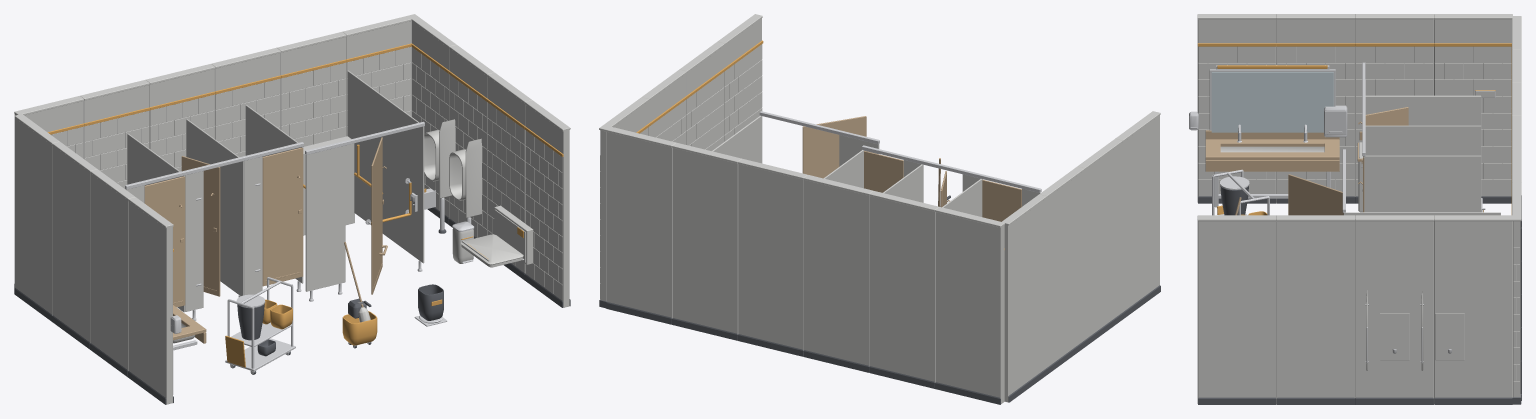
The model's file is office-lobby-and-facilities-washroom-86555e34__26334.glb.
3 renders of one model, left to right at view 1: azimuth 30°, elevation 25°; view 2: azimuth 150°, elevation 25°; view 3: azimuth 270°, elevation 25°, orthographic. The views are drawn at different scales.
Visible parts, largest first — view 1: 003-wc-cubicle-accessible/0, 018-washroom-wall-module/0, 014-washroom-wall-module/0, 001-wc-cubicle-module-open/0, 015-washroom-wall-module/0, 017-washroom-wall-module/0, 016-washroom-wall-module/0, 008-washroom-wall-module/0, 002-wc-cubicle-module/cubicle-door, 013-washroom-wall-module/0, 007-washroom-wall-module/0, 005-washroom-wall-module/0 (+24 smaller); view 2: 004-washroom-wall-module/0, 008-washroom-wall-module/0, 009-washroom-wall-module/0, 005-washroom-wall-module/0, 006-washroom-wall-module/0, 007-washroom-wall-module/0, 015-washroom-wall-module/0, 017-washroom-wall-module/0, 018-washroom-wall-module/0, 016-washroom-wall-module/0, 014-washroom-wall-module/0, 013-washroom-wall-module/0 (+17 smaller); view 3: 014-washroom-wall-module/0, 013-washroom-wall-module/0, 011-washroom-wall-module/0, 012-washroom-wall-module/0, 015-washroom-wall-module/0, 024-washroom-mirror-run/1, 002-wc-cubicle-module/0, 017-washroom-wall-module/0, 016-washroom-wall-module/0, 018-washroom-wall-module/0, 023-vanity-trough-two-basin/1, 001-wc-cubicle-module-open/0 (+29 smaller).
Part boxes in pixels (<box>): 003-wc-cubicle-accessible/0: <box>303,70,424,291</box>; 018-washroom-wall-module/0: <box>128,197,173,404</box>; 014-washroom-wall-module/0: <box>525,100,570,307</box>; 001-wc-cubicle-module-open/0: <box>185,119,244,311</box>; 015-washroom-wall-module/0: <box>14,114,59,315</box>; 017-washroom-wall-module/0: <box>90,169,134,370</box>; 016-washroom-wall-module/0: <box>52,141,97,342</box>; 008-washroom-wall-module/0: <box>277,32,346,146</box>; 002-wc-cubicle-module/cubicle-door: <box>262,147,303,286</box>; 013-washroom-wall-module/0: <box>487,72,532,273</box>; 007-washroom-wall-module/0: <box>211,48,280,157</box>; 005-washroom-wall-module/0: <box>80,80,149,189</box>; 004-washroom-wall-module/0: <box>935,207,1004,403</box>; 008-washroom-wall-module/0: <box>672,142,741,334</box>; 009-washroom-wall-module/0: <box>606,126,675,318</box>; 005-washroom-wall-module/0: <box>869,191,938,382</box>; 006-washroom-wall-module/0: <box>803,175,873,366</box>; 007-washroom-wall-module/0: <box>738,158,807,350</box>; 015-washroom-wall-module/0: <box>1002,194,1046,402</box>; 017-washroom-wall-module/0: <box>1077,139,1122,340</box>; 018-washroom-wall-module/0: <box>1115,111,1160,312</box>; 016-washroom-wall-module/0: <box>1039,166,1084,368</box>; 014-washroom-wall-module/0: <box>717,14,762,141</box>; 013-washroom-wall-module/0: <box>679,42,724,150</box>; 014-washroom-wall-module/0: <box>1197,215,1276,403</box>; 013-washroom-wall-module/0: <box>1276,215,1355,397</box>; 011-washroom-wall-module/0: <box>1434,215,1512,403</box>; 012-washroom-wall-module/0: <box>1355,215,1433,397</box>; 015-washroom-wall-module/0: <box>1434,14,1512,196</box>; 024-washroom-mirror-run/1: <box>1211,72,1333,132</box>; 002-wc-cubicle-module/0: <box>1363,155,1481,212</box>; 017-washroom-wall-module/0: <box>1276,14,1355,196</box>; 016-washroom-wall-module/0: <box>1355,14,1433,196</box>; 018-washroom-wall-module/0: <box>1197,14,1276,202</box>; 023-vanity-trough-two-basin/1: <box>1205,130,1339,171</box>; 001-wc-cubicle-module-open/0: <box>1365,125,1481,155</box>.
Bounding box in the file's own units: 6.26 × 2.6 × 4.22.
